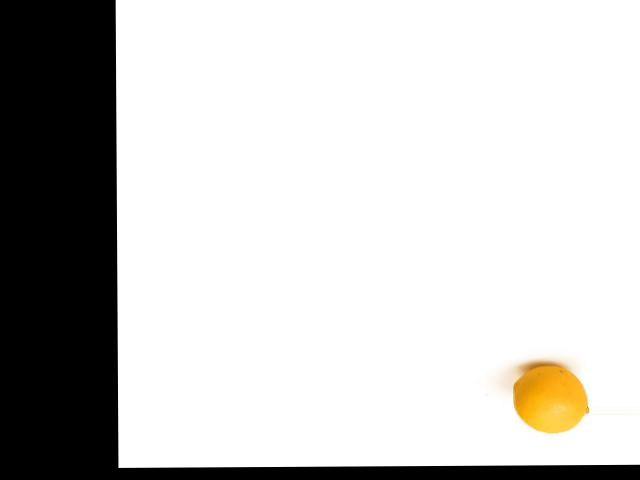lemon: (503, 355, 589, 435)
